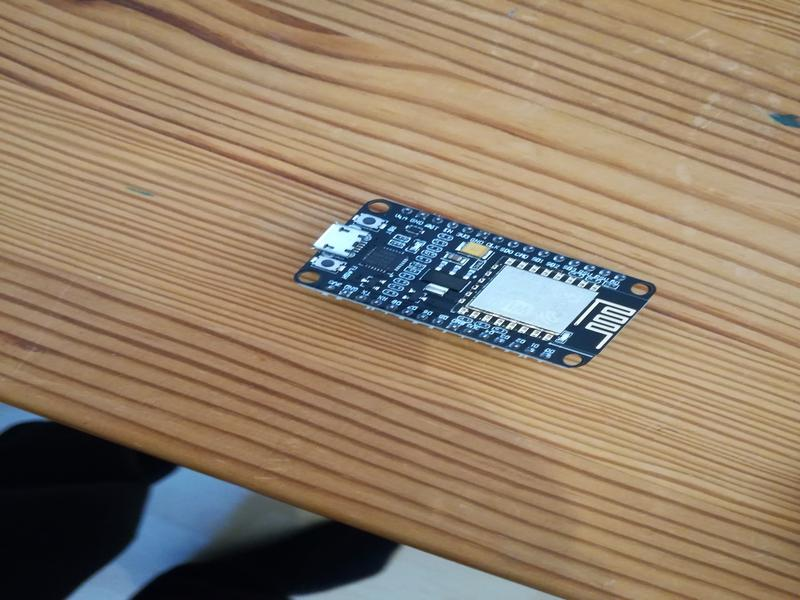ESP8266: (280, 191, 675, 382)
